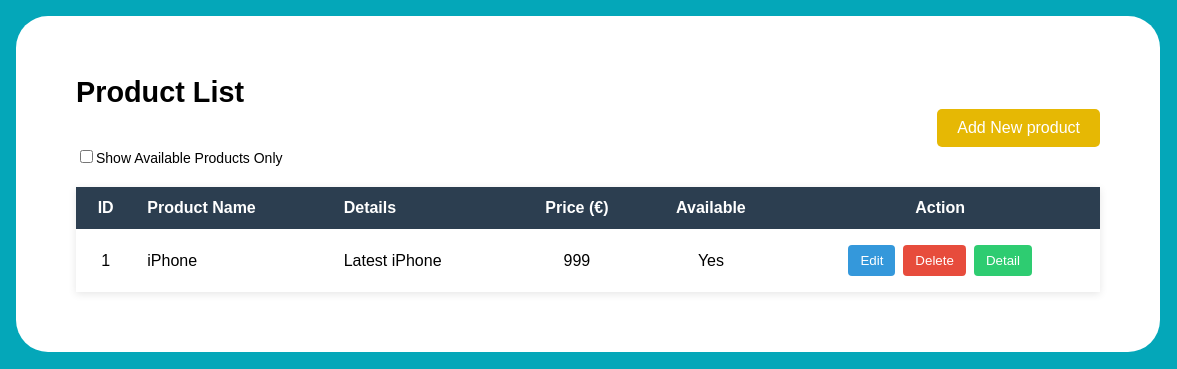
Scenario: ProductList › should handle product deletion
Expected: the text "iPhone" is shown, [135,229,332,292]
Click the button "Delete" at (935, 260), box [903,245,966,276]
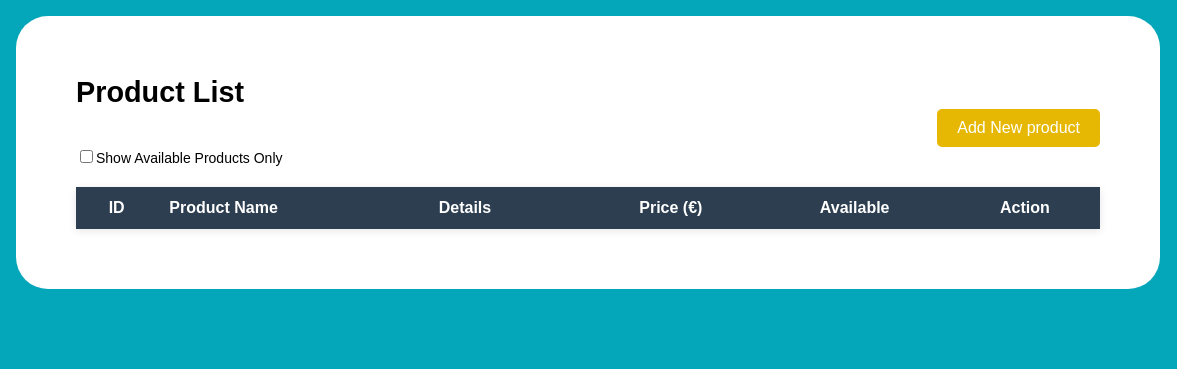
Result: the text "iPhone" is gone
